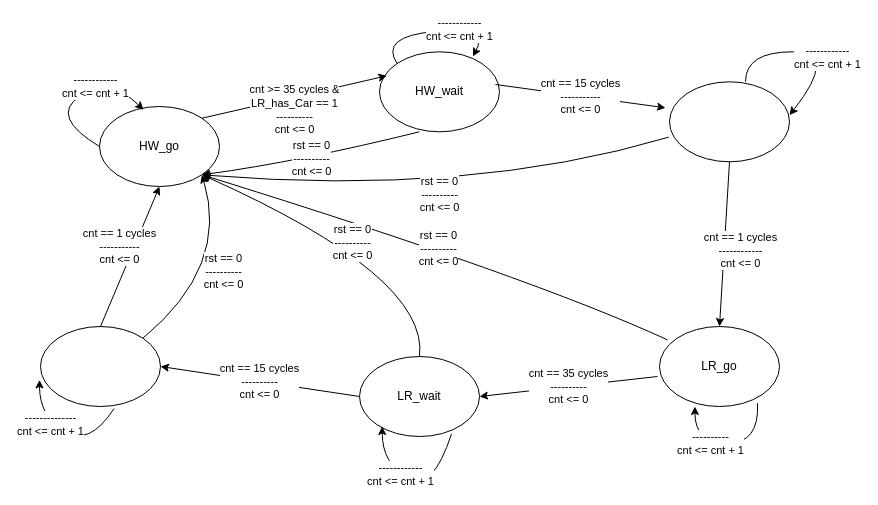
Image size: 878x505. Some labels were removed from this diagram. The centre of each missing label's shape, as x and y in pixels:
"Going_toHW" goes at pixel 100 366.
"Going_toLR" goes at pixel 729 121.
